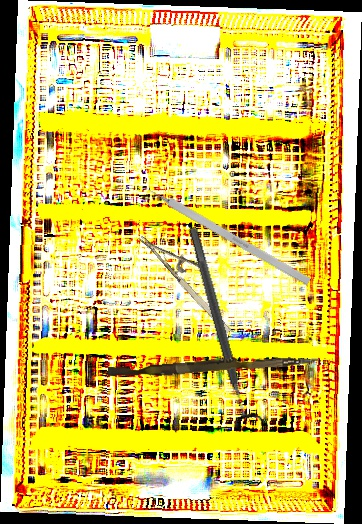Fixation Ring: (177, 223, 266, 431)
Hook Surgical: (135, 179, 311, 286)
Needle Holder: (138, 217, 248, 337)
Pusher: (107, 348, 320, 383)
